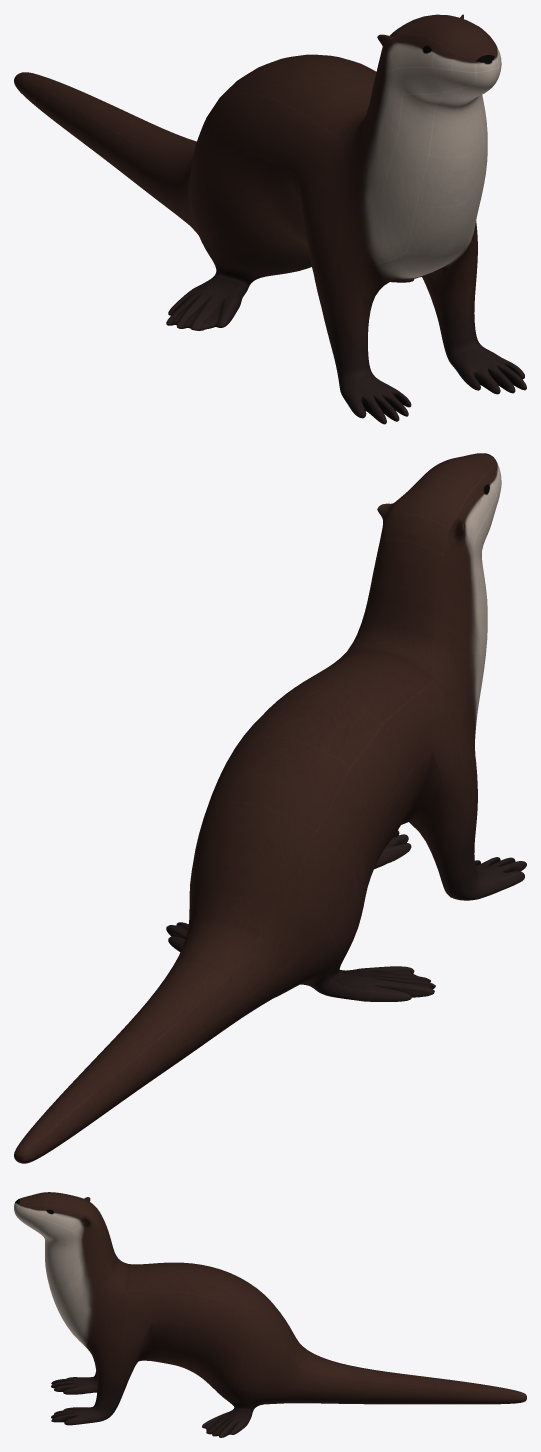
The model's file is RiverOtter.obj.
3 views of the same model, one above another, from view 1: azimuth 30°, elevation 25°; view 2: azimuth 150°, elevation 25°; view 3: azimuth 270°, elevation 25° (orthographic). The views are drawn at different scales.
Visible parts, largest first — view 1: Default; view 2: Default; view 3: Default.
Boxes of the visible parts, box(x1,y1,x2,y2) form: Default: box(14, 14, 526, 424); Default: box(14, 453, 526, 1163); Default: box(14, 1192, 526, 1437).
Bounding box in the file's own units: 0.2477 × 0.3403 × 0.7551.
1 material, 1 textured.
